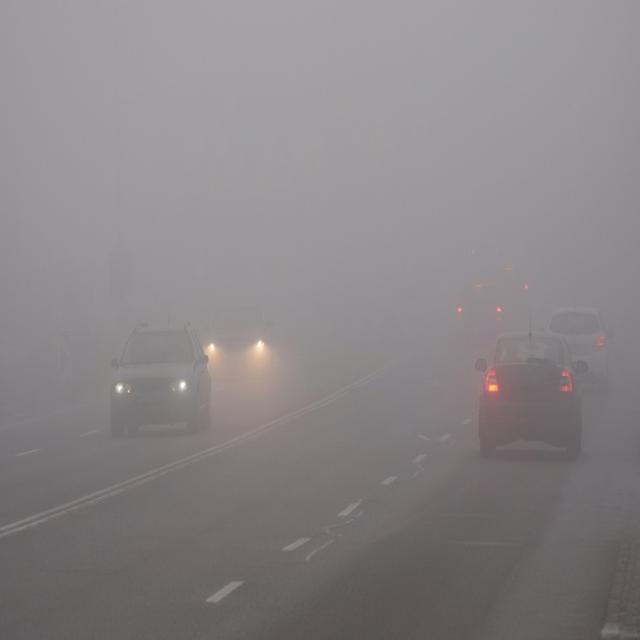car: (475, 330, 583, 459), (106, 324, 213, 438), (204, 304, 276, 388), (542, 305, 610, 389), (454, 281, 502, 340), (495, 259, 532, 316)
